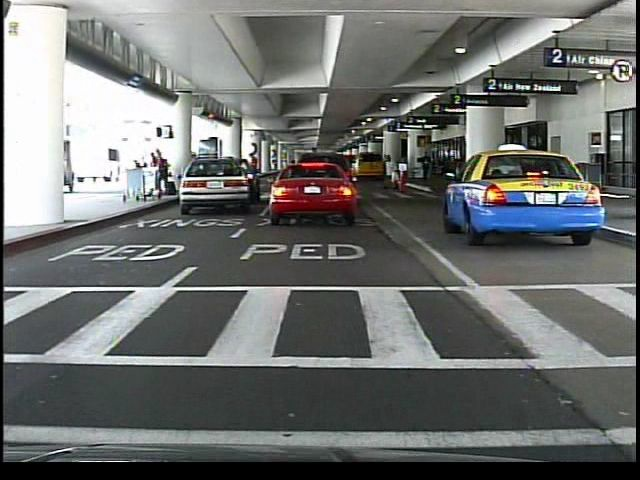person: (285, 158, 304, 206), (244, 150, 261, 201), (306, 152, 321, 202), (156, 147, 171, 196), (385, 150, 400, 188), (418, 149, 432, 184)
